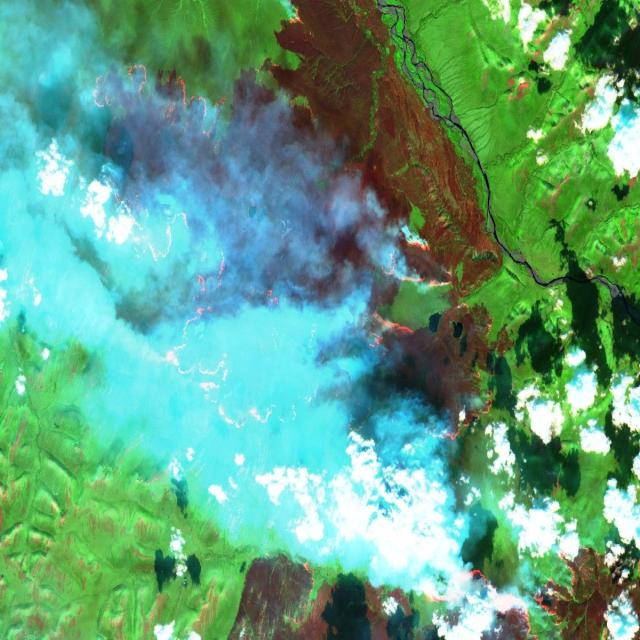fire: (0, 24, 544, 640)
